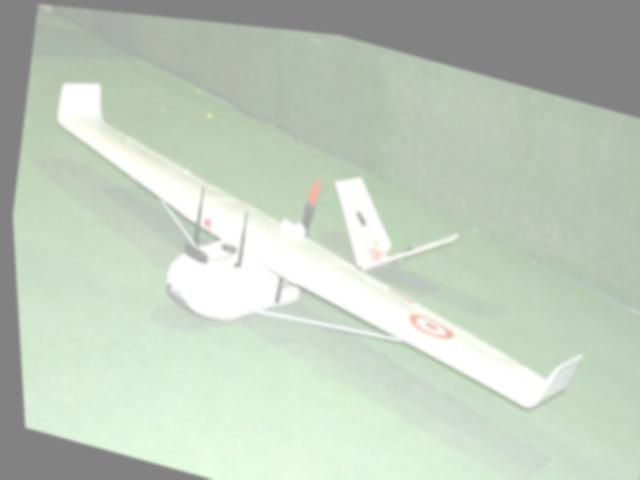iha: (11, 60, 628, 433)
